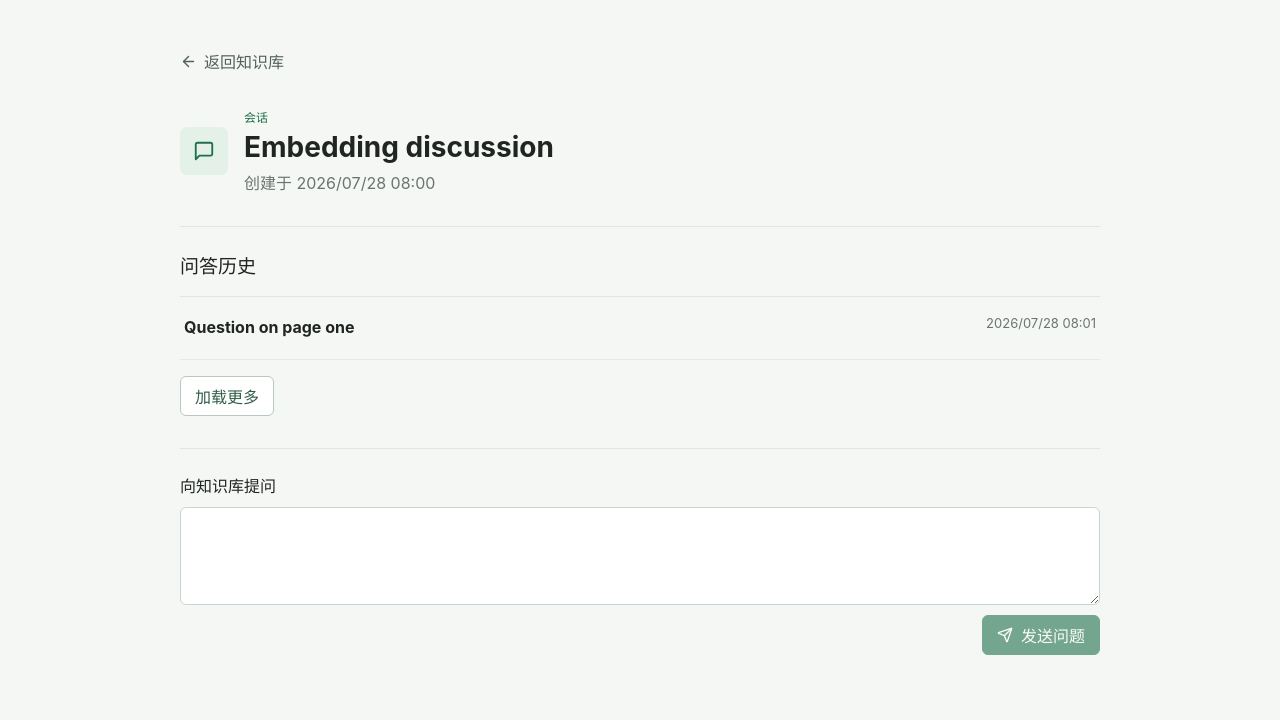
ConversationPage › loads answer history alongside the next page of questions
Click the button with class "load-more-button" at (227, 396), box top-left (180, 376), bottom-right (274, 416)
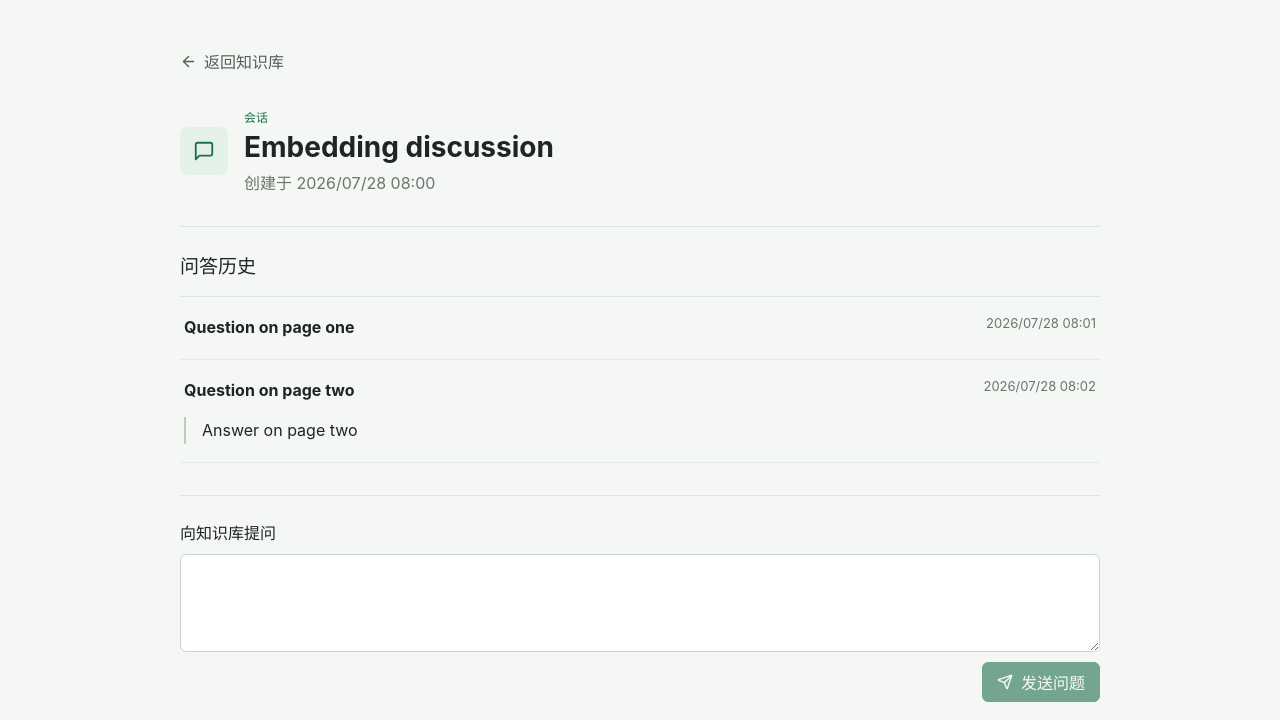
Result: the text "Answer on page two" is shown at top-left (202, 420), bottom-right (358, 440)
